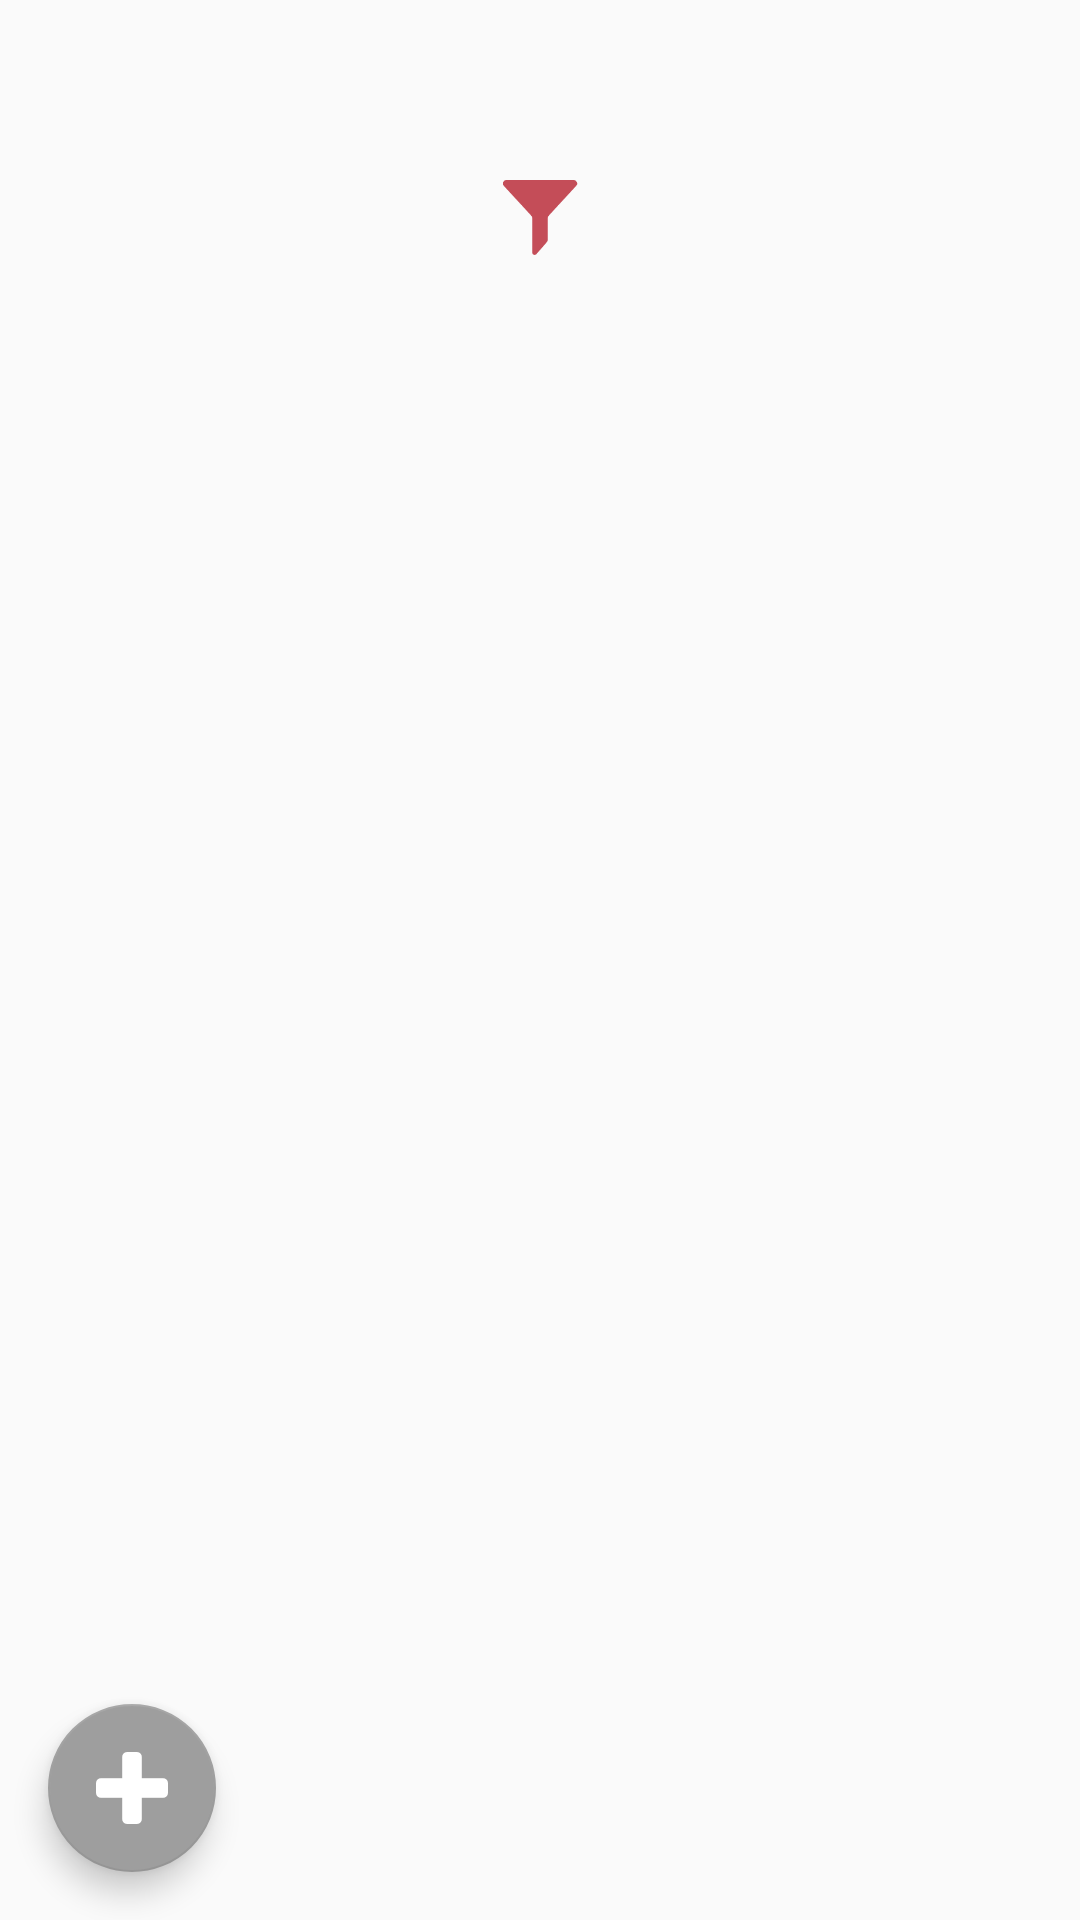

Where to tap for icons on this 1080px x 1920px app screen, as point (x, y):
filter tool symbol: point (540, 217)
plus symbol: point (132, 1788)
